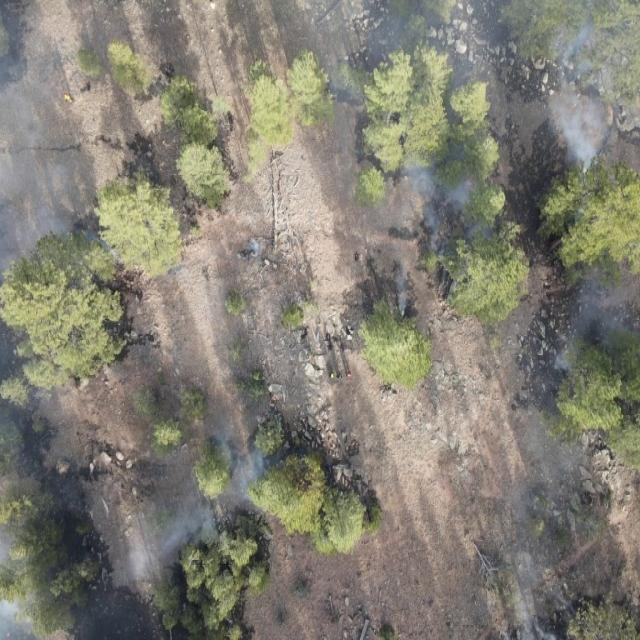fire: (268, 393, 278, 405)
smoke: (316, 0, 515, 322), (0, 1, 107, 270), (115, 434, 281, 584), (527, 0, 640, 180), (500, 420, 568, 640), (550, 263, 640, 385), (0, 501, 60, 640)
